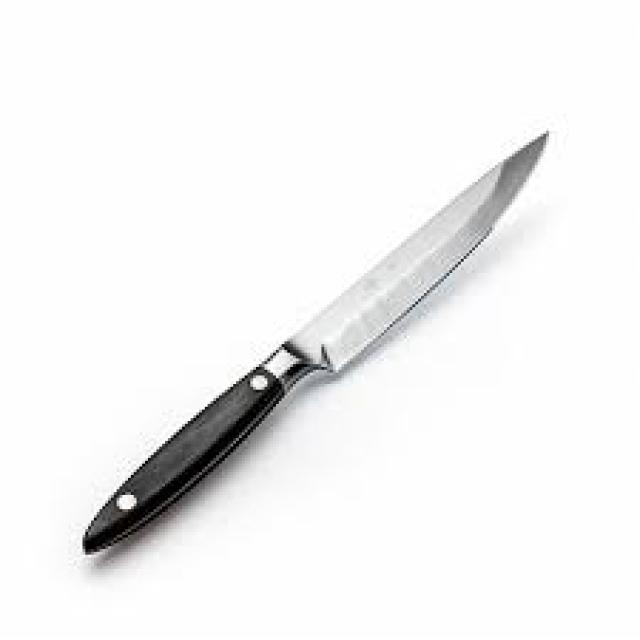Knife: (80, 128, 549, 555)
